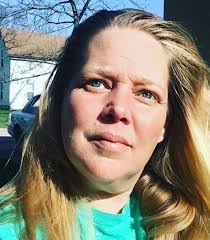white_female: (50, 15, 169, 196)
